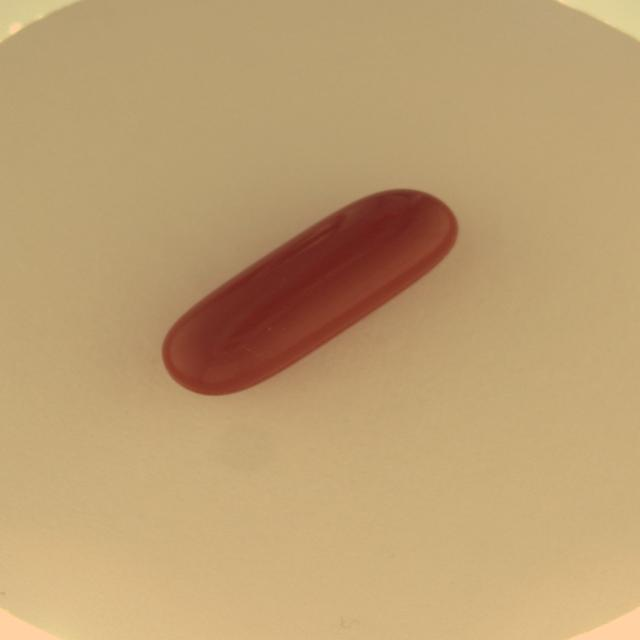Oval: (160, 186, 459, 399)
